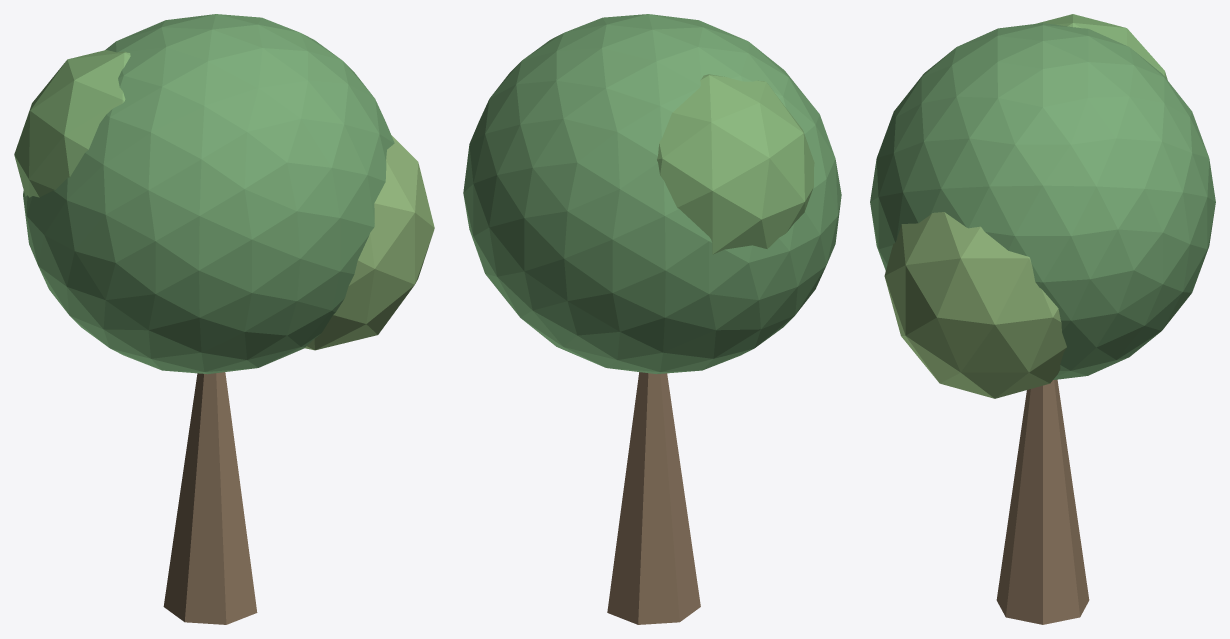
The model's file is oak.glb.
3 views of the same model, side by side, from view 1: azimuth 30°, elevation 25°; view 2: azimuth 150°, elevation 25°; view 3: azimuth 270°, elevation 25° (orthographic). The views are drawn at different scales.
Parts seen in each view (by area): view 1: oak; view 2: oak; view 3: oak.
Part boxes in pixels (x1=…): oak: x1=14, y1=14, x2=434, y2=624; oak: x1=463, y1=14, x2=841, y2=624; oak: x1=870, y1=14, x2=1215, y2=624.
Size of the model in its own units: 3.31 by 5.18 by 2.88.
